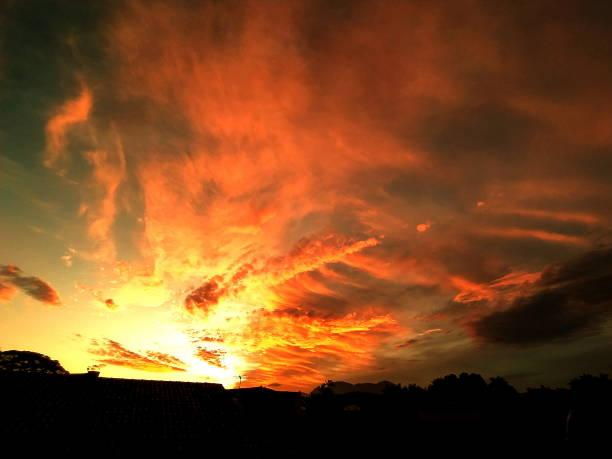Fire: (20, 222, 510, 384)
